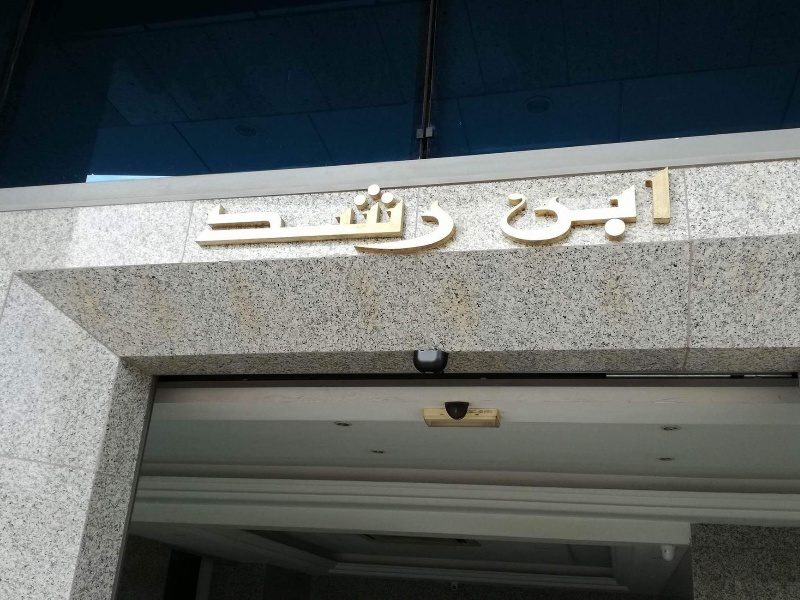text: (513, 164, 528, 248), (529, 164, 544, 248), (545, 164, 560, 248), (561, 164, 576, 248), (577, 164, 592, 248), (593, 164, 608, 248), (609, 164, 624, 248), (625, 164, 640, 248), (641, 164, 656, 248), (657, 164, 672, 248), (209, 178, 224, 256), (225, 178, 240, 256), (241, 178, 256, 256), (257, 178, 272, 256), (273, 178, 288, 256), (289, 178, 304, 256), (305, 178, 320, 256), (321, 178, 336, 256), (337, 178, 352, 256), (353, 178, 368, 256), (369, 178, 384, 256), (385, 178, 400, 256), (401, 178, 416, 256), (417, 178, 432, 256), (433, 178, 448, 256), (197, 178, 208, 256), (449, 178, 460, 256), (503, 164, 512, 248)
